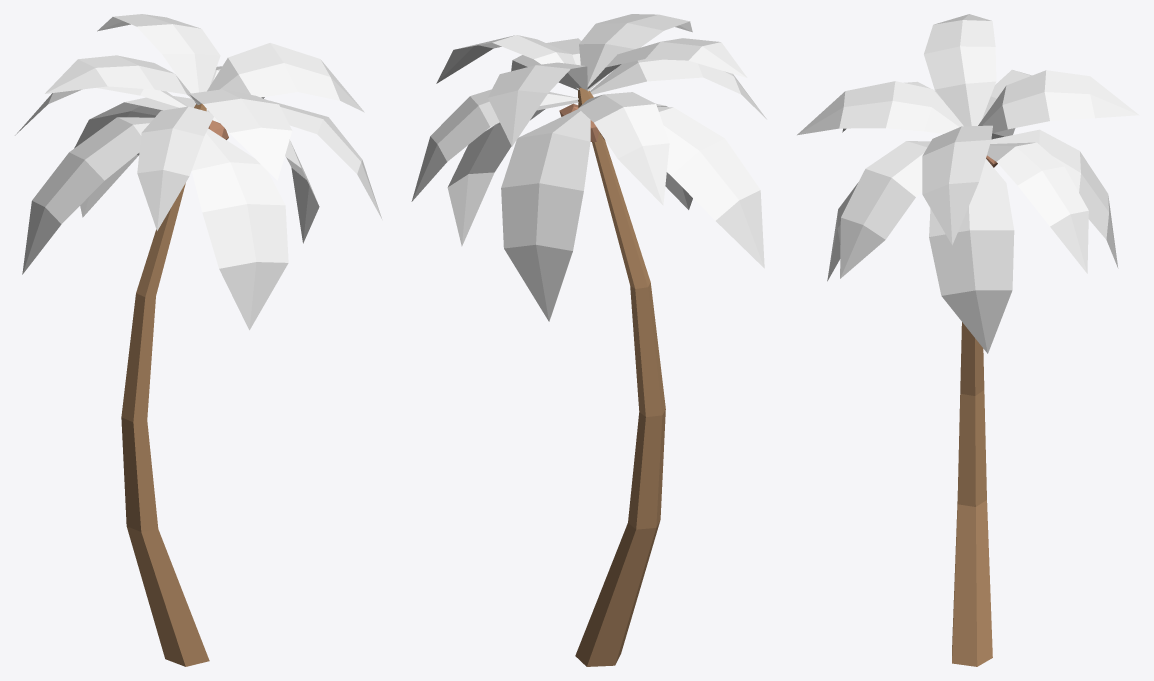
Rendered from Palm_Tree_Coconut_OneSided_l_Snow_03_LOD.fbx.
3 renders of one model, left to right at view 1: azimuth 30°, elevation 25°; view 2: azimuth 150°, elevation 25°; view 3: azimuth 270°, elevation 25°, orthographic. The views are drawn at different scales.
Visible parts, largest first — view 1: Palm_Tree_Coconut_OneSided_l_Snow_03_LOD0; view 2: Palm_Tree_Coconut_OneSided_l_Snow_03_LOD0; view 3: Palm_Tree_Coconut_OneSided_l_Snow_03_LOD0.
Part boxes in pixels (left/top/right/bottom): Palm_Tree_Coconut_OneSided_l_Snow_03_LOD0: left=15, top=14, right=382, bottom=666; Palm_Tree_Coconut_OneSided_l_Snow_03_LOD0: left=411, top=14, right=766, bottom=666; Palm_Tree_Coconut_OneSided_l_Snow_03_LOD0: left=797, top=14, right=1139, bottom=666.
Size of what is drawn, in the model's own units: 442 by 784 by 412.
